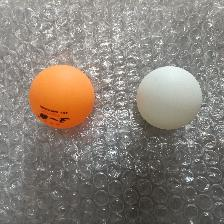WhiteBall: (136, 65, 202, 129)
YellowBall: (28, 63, 95, 129)
